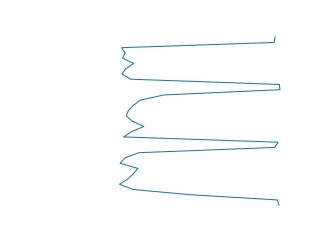majorRiverChannelBar: (116, 37, 286, 206)
